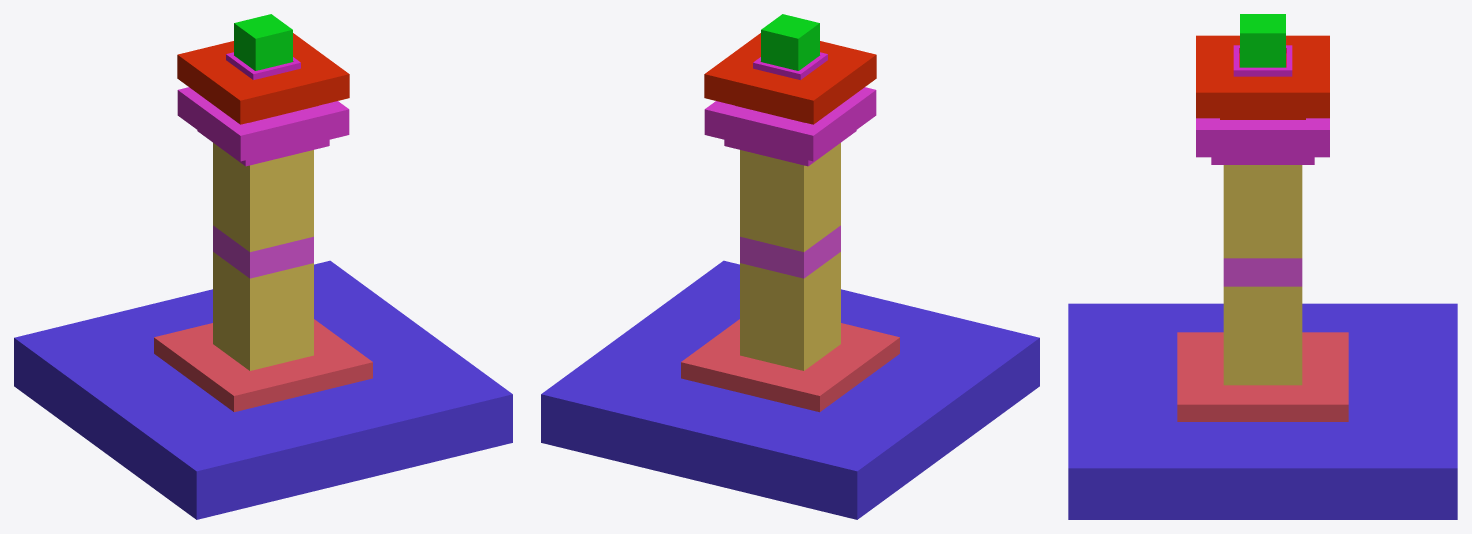
The model's file is sniper_Lv1.fbx.
3 renders of one model, left to right at view 1: azimuth 30°, elevation 25°; view 2: azimuth 150°, elevation 25°; view 3: azimuth 270°, elevation 25°, orthographic. The views are drawn at different scales.
Parts seen in each view (by area): view 1: Cube.006; view 2: Cube.006; view 3: Cube.006.
Part boxes in pixels (x1=…): Cube.006: x1=14, y1=14, x2=512, y2=519; Cube.006: x1=541, y1=14, x2=1039, y2=519; Cube.006: x1=1068, y1=14, x2=1457, y2=519.
Bounding box in the file's own units: 200 × 235 × 200.
